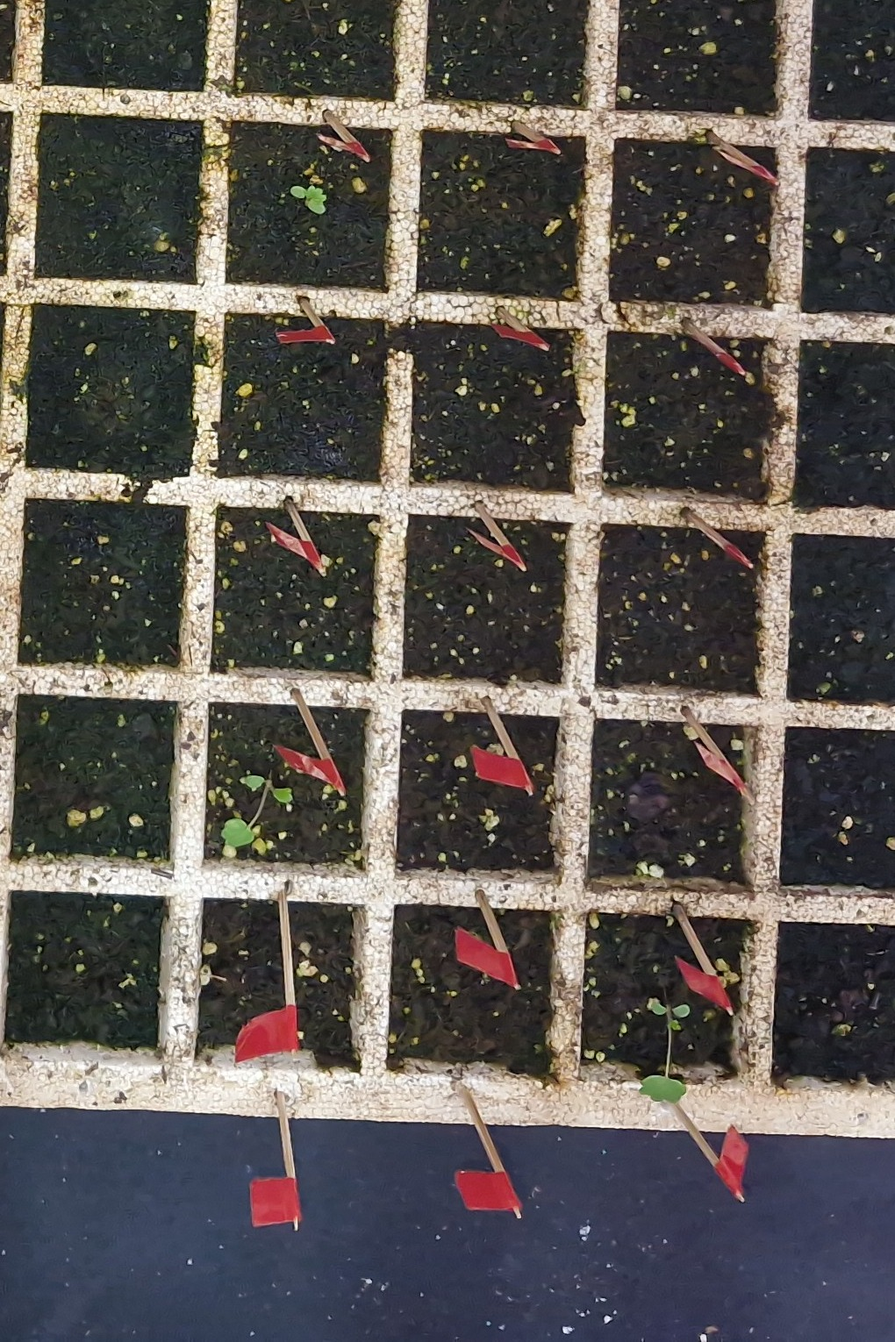Folha: (640, 1075, 686, 1103), (221, 819, 253, 846), (306, 186, 326, 205), (273, 789, 293, 802), (245, 776, 264, 788), (673, 1005, 690, 1017), (309, 201, 325, 213), (652, 1002, 667, 1014), (291, 187, 306, 198)
Germinacao: (640, 1001, 690, 1103), (222, 775, 292, 847), (291, 186, 327, 214)
